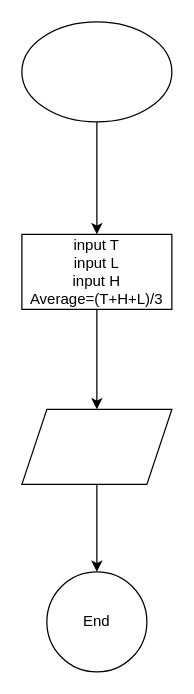
This 194x694 diagram has some shape labels left out. The box of each missing label's shape, as (x1, y1, x2, y2) in pixels:
Begin: (21, 21, 172, 122)
Display DTB: (21, 408, 172, 484)
